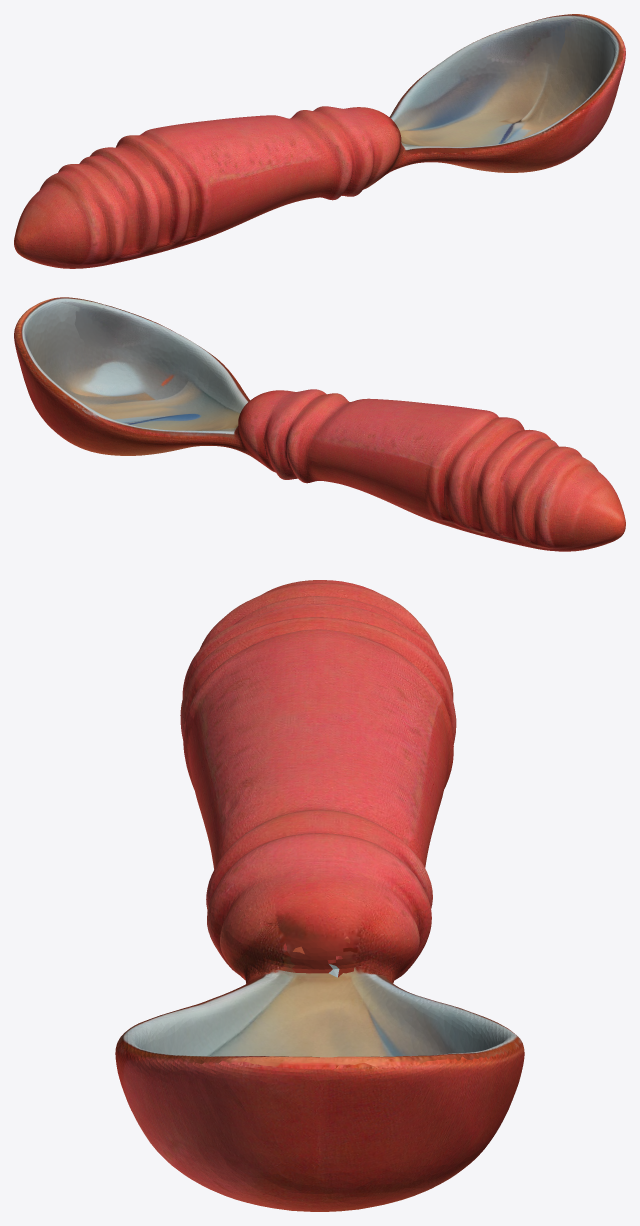
Rendered from image_0000_segmented.glb.
The picture shows the model from 3 angles, top to bottom: view 1: azimuth 30°, elevation 25°; view 2: azimuth 150°, elevation 25°; view 3: azimuth 270°, elevation 25°; orthographic projection. The views are drawn at different scales.
Parts seen in each view (by area): view 1: tmpixx8vffx.ply; view 2: tmpixx8vffx.ply; view 3: tmpixx8vffx.ply.
Boxes of the visible parts, bbox=[...] form: tmpixx8vffx.ply: bbox=[14, 14, 625, 268]; tmpixx8vffx.ply: bbox=[14, 297, 625, 551]; tmpixx8vffx.ply: bbox=[115, 580, 524, 1211].
Bounding box in the file's own units: 1.99 × 0.3402 × 0.5935.
1 material, 1 textured.
